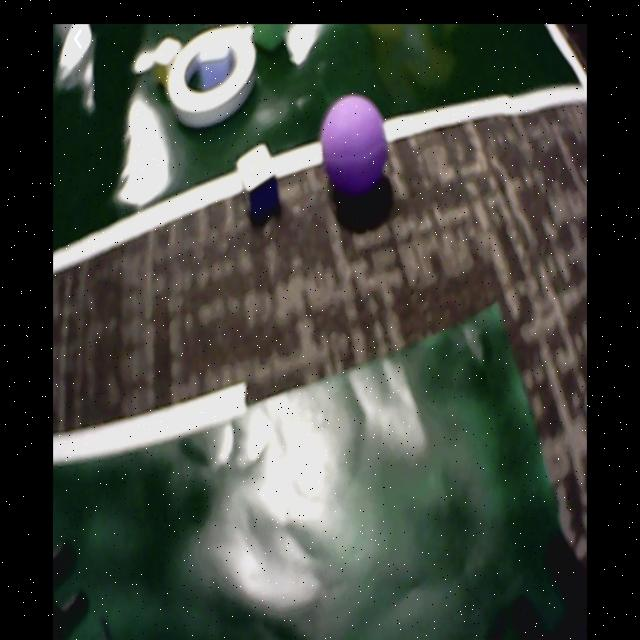ball: (322, 94, 387, 193)
